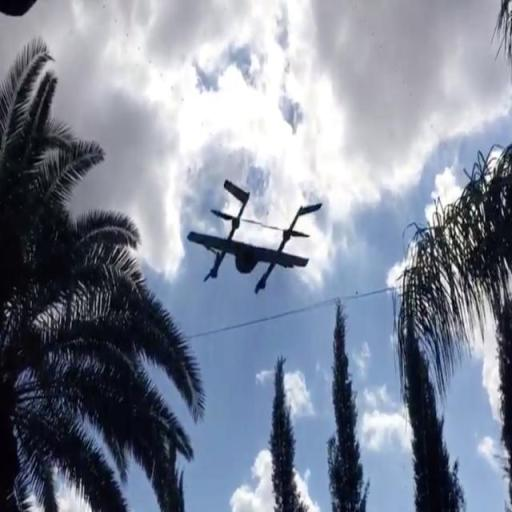uav: (180, 171, 319, 303)
